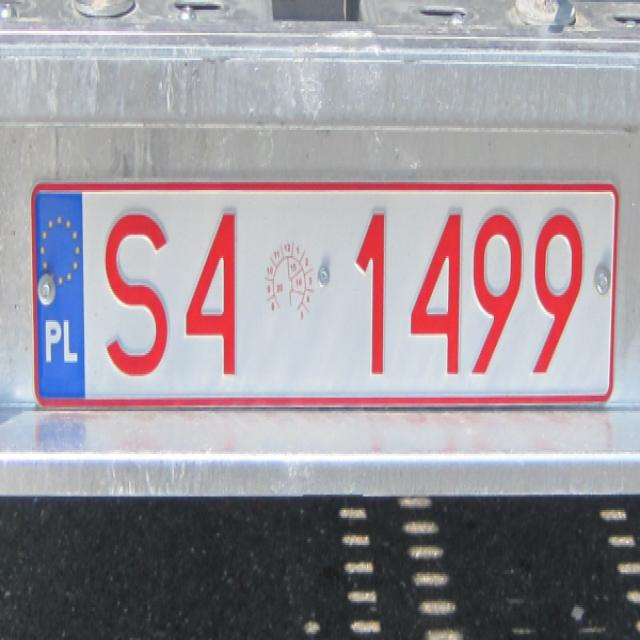pl_license_plate: (34, 186, 611, 400)
